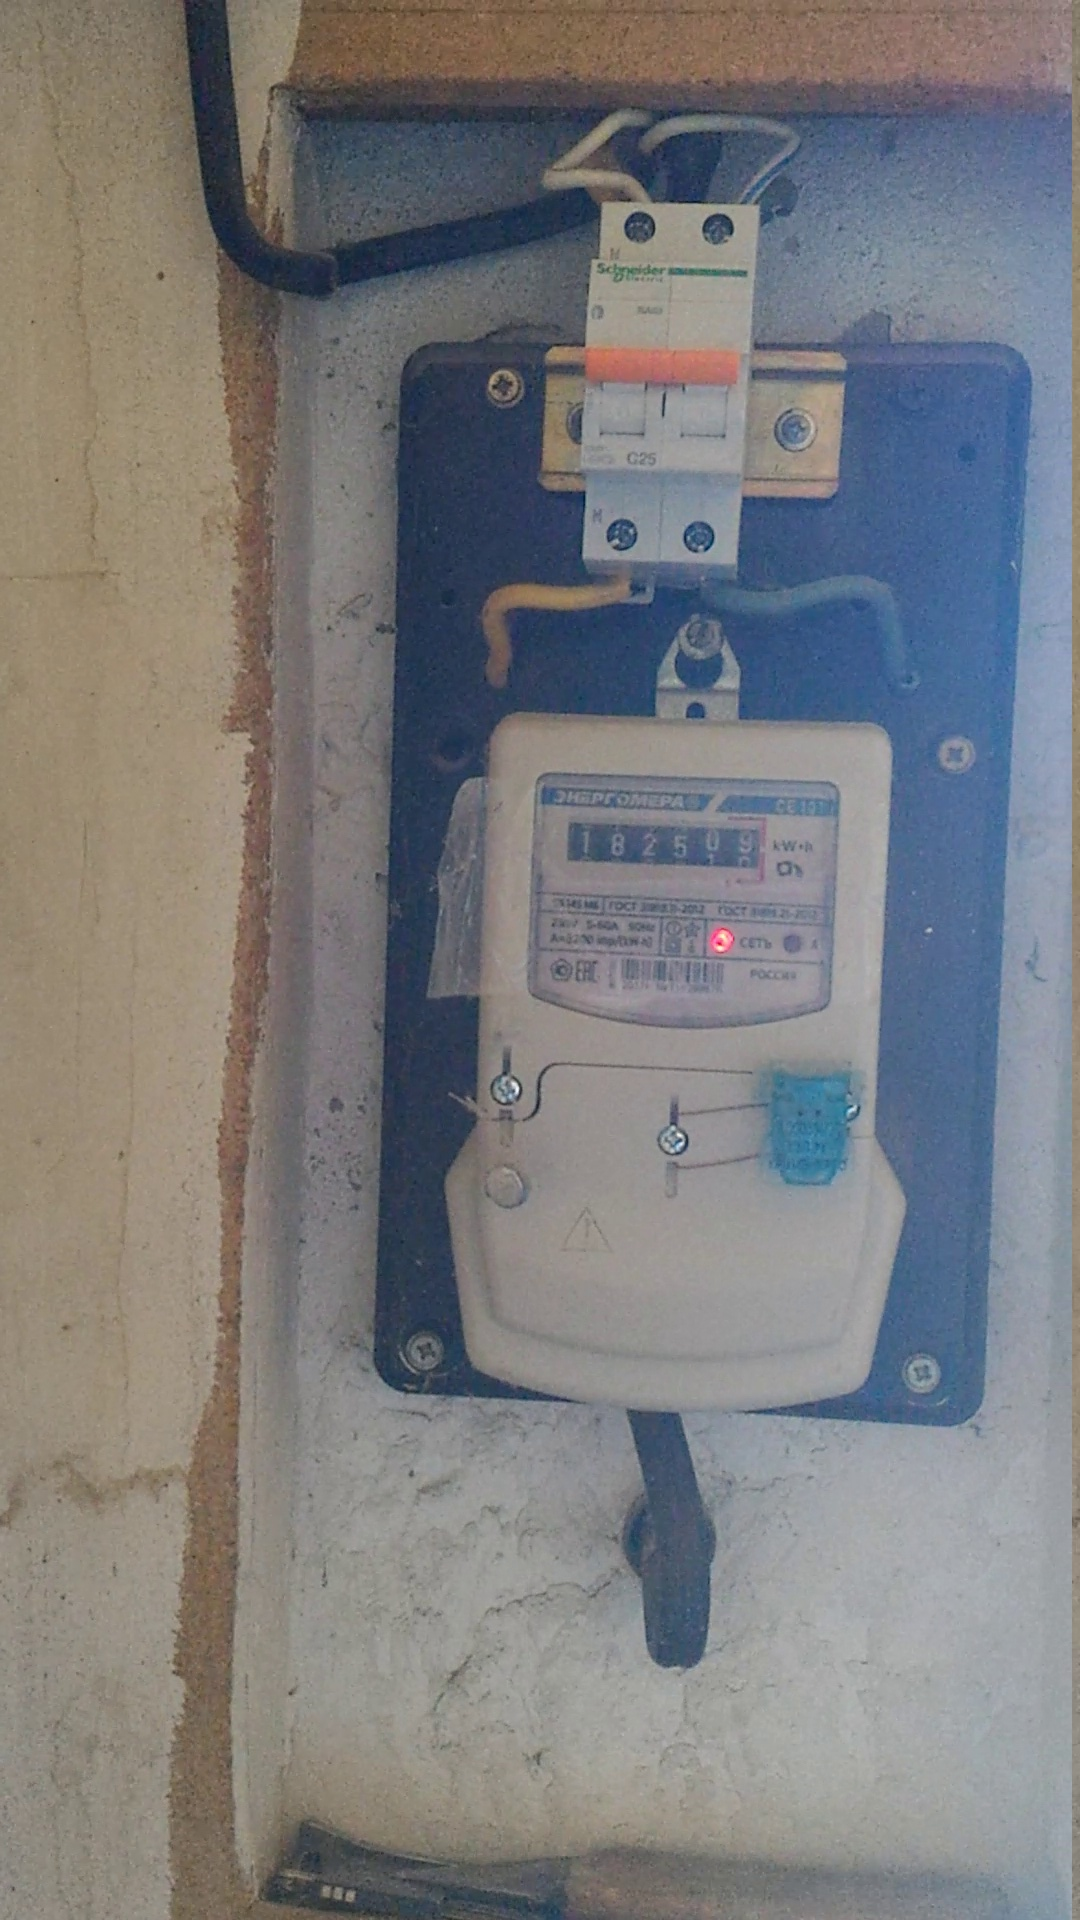counter: (446, 705, 887, 1415)
counter_screen: (564, 820, 762, 872)
